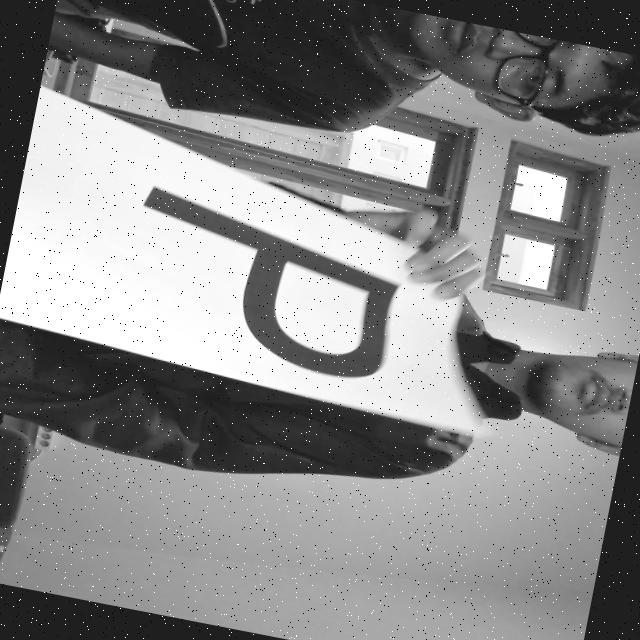p: (62, 172, 436, 397)
